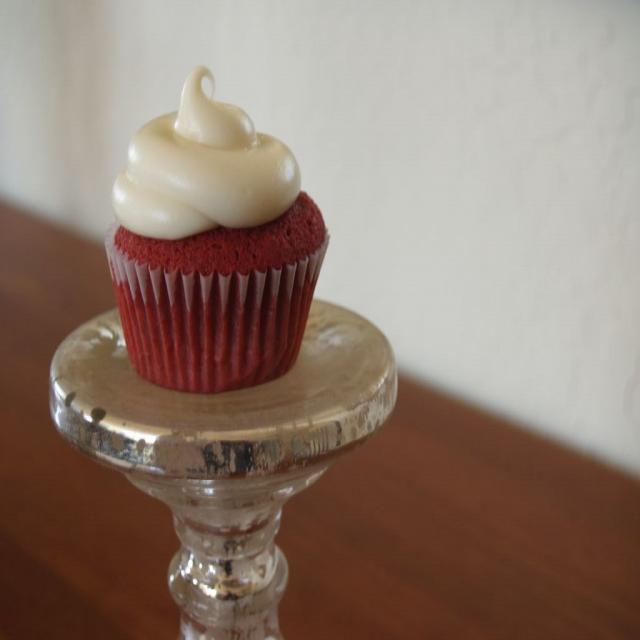Muffin: (107, 64, 328, 396)
